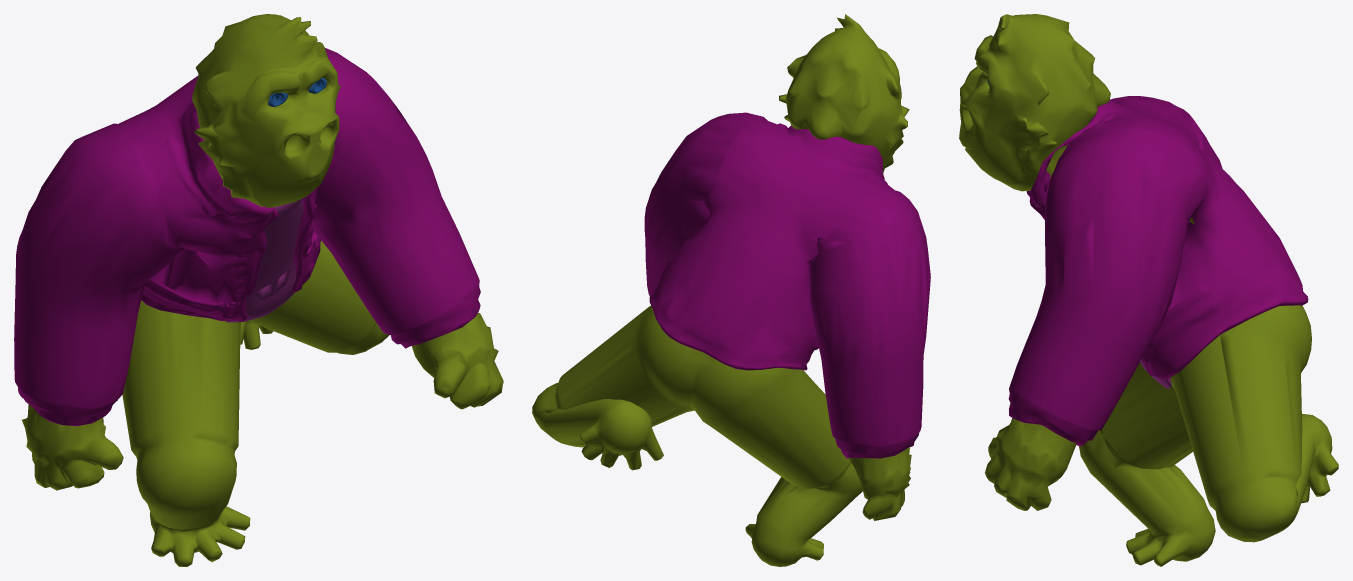
File: 019kong.obj
3 renders of one model, left to right at view 1: azimuth 30°, elevation 25°; view 2: azimuth 150°, elevation 25°; view 3: azimuth 270°, elevation 25°, orthographic. The views are drawn at different scales.
Visible parts, largest first — view 1: Jacket, Body, Shirt; view 2: Jacket, Body; view 3: Body, Jacket.
Boxes of the visible parts, x1=… form: Jacket: x1=14, y1=48, x2=480, y2=426; Body: x1=22, y1=14, x2=503, y2=566; Shirt: x1=225, y1=199, x2=303, y2=322; Jacket: x1=644, y1=112, x2=930, y2=458; Body: x1=532, y1=14, x2=911, y2=566; Body: x1=959, y1=14, x2=1338, y2=566; Jacket: x1=1008, y1=96, x2=1308, y2=446.
Size of the model in its own units: 6.06 by 8.25 by 5.15.
